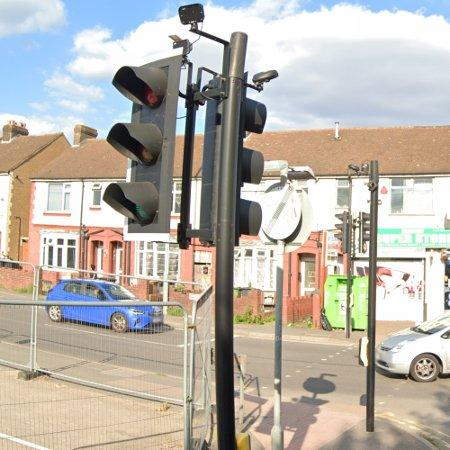traffic lights: (103, 55, 181, 233)
